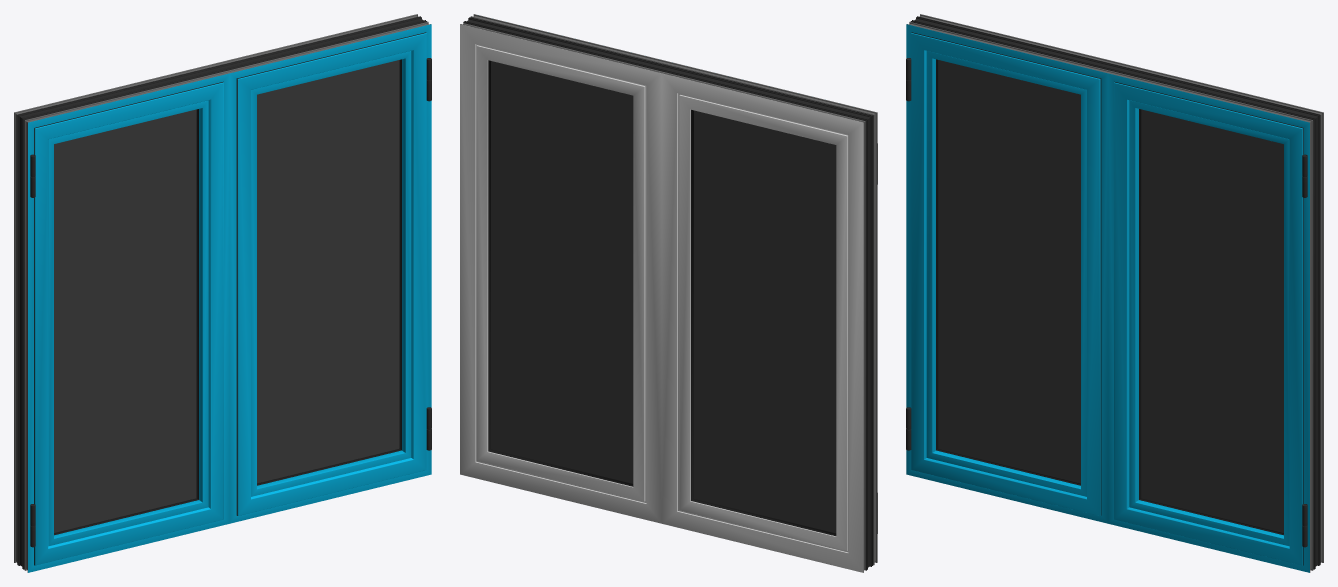
File: 98_2_doors.fbx
3 renders of one model, left to right at view 1: azimuth 30°, elevation 25°; view 2: azimuth 150°, elevation 25°; view 3: azimuth 330°, elevation 25°, orthographic.
Visible parts, largest first — view 1: SM_Door_Frame_98_R_008, SM_Door_Frame_98_L_008, SM_Door_Frame_98_R_010, SM_Door_Frame_98_L_010, SM_Window_Frame_98_002, SM_Window_Frame_98_004, SM_Door_Frame_98_R_013, SM_Door_Frame_98_L_013; view 2: SM_Door_Frame_98_L_008, SM_Door_Frame_98_R_008, SM_Window_Frame_98_002, SM_Door_Frame_98_R_010, SM_Door_Frame_98_L_010, SM_Window_Frame_98_004, SM_Door_Frame_98_R_013, SM_Door_Frame_98_L_013; view 3: SM_Door_Frame_98_L_008, SM_Door_Frame_98_R_008, SM_Door_Frame_98_L_010, SM_Door_Frame_98_R_010, SM_Window_Frame_98_002, SM_Window_Frame_98_004, SM_Door_Frame_98_L_013, SM_Door_Frame_98_R_013.
Part boxes in pixels (<box>): SM_Door_Frame_98_R_008: <box>257,60,399,483</box>; SM_Door_Frame_98_L_008: <box>54,109,196,532</box>; SM_Door_Frame_98_R_010: <box>237,33,426,515</box>; SM_Door_Frame_98_L_010: <box>34,82,223,565</box>; SM_Window_Frame_98_002: <box>14,14,431,572</box>; SM_Window_Frame_98_004: <box>17,16,427,569</box>; SM_Door_Frame_98_R_013: <box>236,32,426,515</box>; SM_Door_Frame_98_L_013: <box>34,81,223,565</box>; SM_Door_Frame_98_L_008: <box>694,110,836,533</box>; SM_Door_Frame_98_R_008: <box>491,61,633,483</box>; SM_Window_Frame_98_002: <box>460,14,877,572</box>; SM_Door_Frame_98_R_010: <box>476,44,646,503</box>; SM_Door_Frame_98_L_010: <box>678,93,848,552</box>; SM_Window_Frame_98_004: <box>463,17,873,570</box>; SM_Door_Frame_98_R_013: <box>488,60,633,486</box>; SM_Door_Frame_98_L_013: <box>691,110,836,536</box>; SM_Door_Frame_98_L_008: <box>938,60,1080,483</box>; SM_Door_Frame_98_R_008: <box>1141,109,1283,532</box>; SM_Door_Frame_98_L_010: <box>911,33,1100,515</box>; SM_Door_Frame_98_R_010: <box>1114,82,1303,565</box>; SM_Window_Frame_98_002: <box>906,14,1323,572</box>; SM_Window_Frame_98_004: <box>910,16,1320,569</box>; SM_Door_Frame_98_L_013: <box>911,32,1101,515</box>; SM_Door_Frame_98_R_013: <box>1114,81,1303,565</box>.
Size of the model in its own units: 150 by 160 by 10.7.
